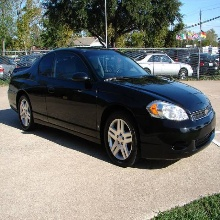no damage: (8, 47, 218, 168)
